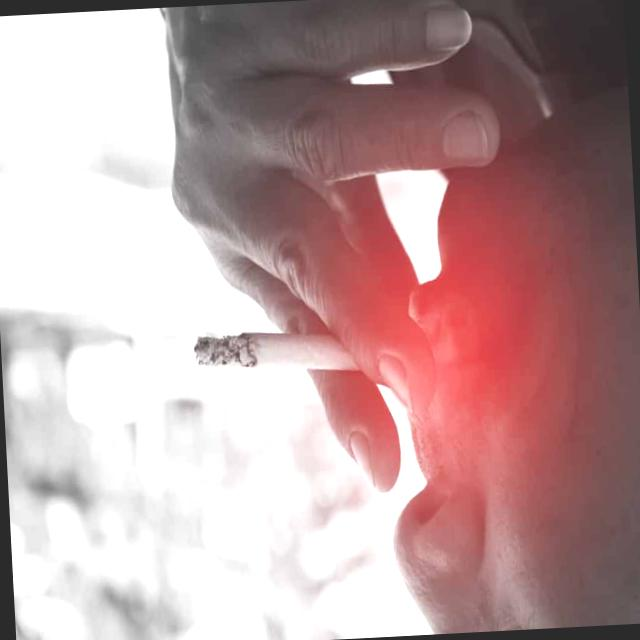cigarette: (183, 309, 395, 401)
